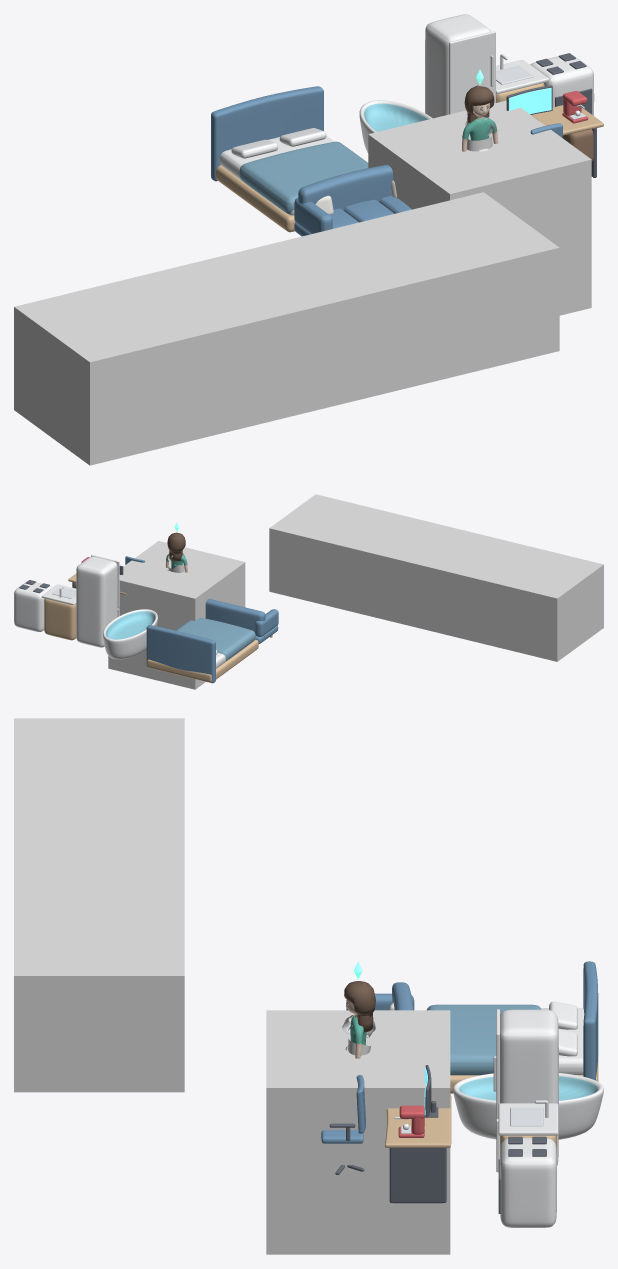
The model's file is hubbia_sims_studio.glb.
3 renders of one model, top to bottom at view 1: azimuth 30°, elevation 25°; view 2: azimuth 150°, elevation 25°; view 3: azimuth 270°, elevation 25°, orthographic. The views are drawn at different scales.
Visible parts, largest first — view 1: Cubo, Cube, Movel_Cama_Casal, Movel_Cozinha_Completa, Movel_Sofa_Design, Movel_Estacao_Trabalho, Movel_Banheira_Oval, Sim_Torso_Unificado, Movel_Cafeteira_Expresso; view 2: Cubo, Cube, Movel_Cozinha_Completa, Movel_Cama_Casal, Movel_Banheira_Oval, Movel_Sofa_Design, Sim_Cabelo_blackpower; view 3: Cubo, Cube, Movel_Cozinha_Completa, Movel_Cama_Casal, Movel_Estacao_Trabalho, Movel_Banheira_Oval, Movel_Cadeira_Escritorio, Movel_Sofa_Design, Sim_Cabelo_blackpower, Movel_Cafeteira_Expresso.
Boxes of the visible parts, left/top/right/bottom form: Cubo: left=14, top=192, right=559, bottom=465; Cube: left=368, top=100, right=591, bottom=315; Movel_Cama_Casal: left=211, top=86, right=368, bottom=232; Movel_Cozinha_Completa: left=425, top=14, right=594, bottom=118; Movel_Sofa_Design: left=294, top=164, right=411, bottom=236; Movel_Estacao_Trabalho: left=506, top=85, right=603, bottom=177; Movel_Banheira_Oval: left=359, top=100, right=432, bottom=153; Sim_Torso_Unificado: left=462, top=117, right=498, bottom=151; Movel_Cafeteira_Expresso: left=562, top=91, right=588, bottom=123; Cubo: left=269, top=494, right=603, bottom=661; Cube: left=108, top=541, right=245, bottom=689; Movel_Cozinha_Completa: left=14, top=554, right=119, bottom=647; Movel_Cama_Casal: left=146, top=617, right=258, bottom=683; Movel_Banheira_Oval: left=103, top=609, right=157, bottom=659; Movel_Sofa_Design: left=205, top=598, right=278, bottom=643; Sim_Cabelo_blackpower: left=167, top=532, right=185, bottom=551; Cubo: left=14, top=718, right=184, bottom=1092; Cube: left=266, top=1010, right=450, bottom=1254; Movel_Cozinha_Completa: left=493, top=1009, right=558, bottom=1227; Movel_Cama_Casal: left=427, top=961, right=598, bottom=1093; Movel_Estacao_Trabalho: left=385, top=1065, right=451, bottom=1203; Movel_Banheira_Oval: left=453, top=1073, right=603, bottom=1139; Movel_Cadeira_Escritorio: left=321, top=1075, right=365, bottom=1174; Movel_Sofa_Design: left=346, top=982, right=414, bottom=1010; Sim_Cabelo_blackpower: left=344, top=981, right=375, bottom=1015; Movel_Cafeteira_Expresso: left=394, top=1105, right=424, bottom=1137.
Size of the model in its own units: 10.21 by 3.05 by 6.41.
